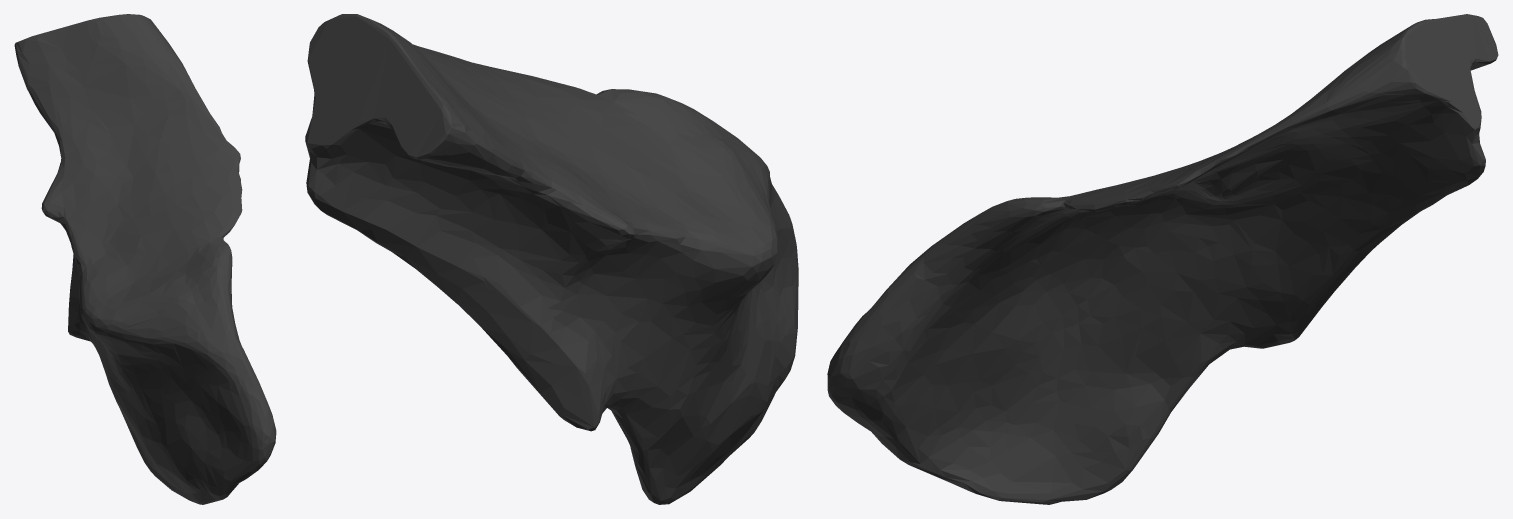
Rendered from Ventricle_1_L_rost_horn.glb.
The picture shows the model from 3 angles, left to right: view 1: azimuth 30°, elevation 25°; view 2: azimuth 150°, elevation 25°; view 3: azimuth 270°, elevation 25°; orthographic projection. The views are drawn at different scales.
Visible parts, largest first — view 1: Ventricle_1_L_rost_horn; view 2: Ventricle_1_L_rost_horn; view 3: Ventricle_1_L_rost_horn.
Part boxes in pixels (x1,y1,x2,y2): Ventricle_1_L_rost_horn: (14, 14, 276, 504); Ventricle_1_L_rost_horn: (305, 14, 798, 504); Ventricle_1_L_rost_horn: (827, 14, 1498, 504).
Bounding box in the file's own units: 0.0176 × 0.0344 × 0.04.
1 material, 1 textured.
